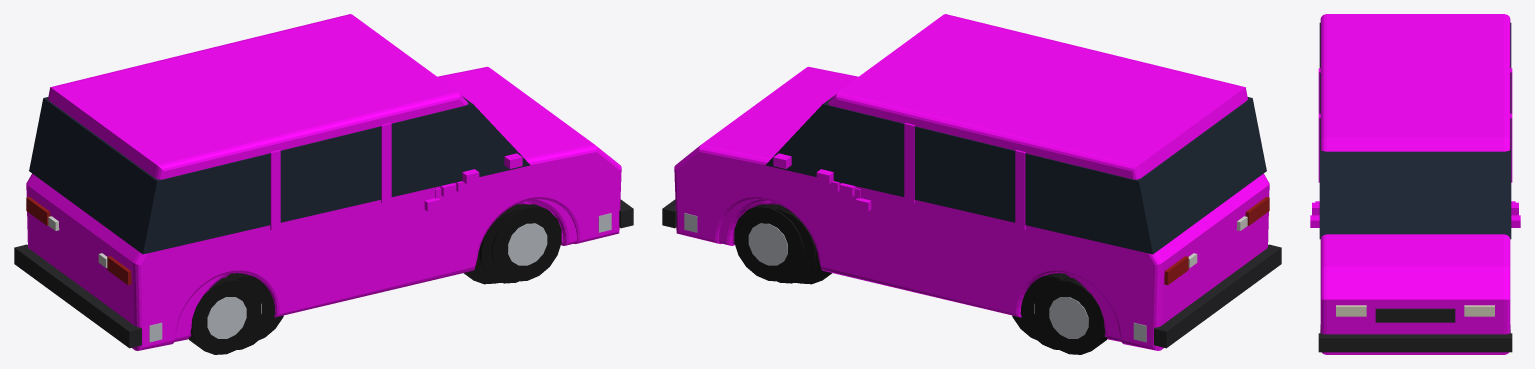
File: cars.glb
The picture shows the model from 3 angles, left to right: view 1: azimuth 30°, elevation 25°; view 2: azimuth 150°, elevation 25°; view 3: azimuth 270°, elevation 25°; orthographic projection. The views are drawn at different scales.
Parts seen in each view (by area): view 1: car4, car2, car0; view 2: car4, car2, car0; view 3: car4, car2.
Part boxes in pixels (left/top/right/bottom): car4: left=14, top=14, right=633, bottom=354; car2: left=149, top=169, right=611, bottom=349; car0: left=189, top=183, right=563, bottom=336; car4: left=662, top=14, right=1281, bottom=354; car2: left=684, top=169, right=1146, bottom=349; car0: left=732, top=183, right=1106, bottom=336; car4: left=1310, top=14, right=1520, bottom=354; car2: left=1312, top=202, right=1518, bottom=333.
Size of the model in its own units: 4.78 by 1.84 by 2.05.
